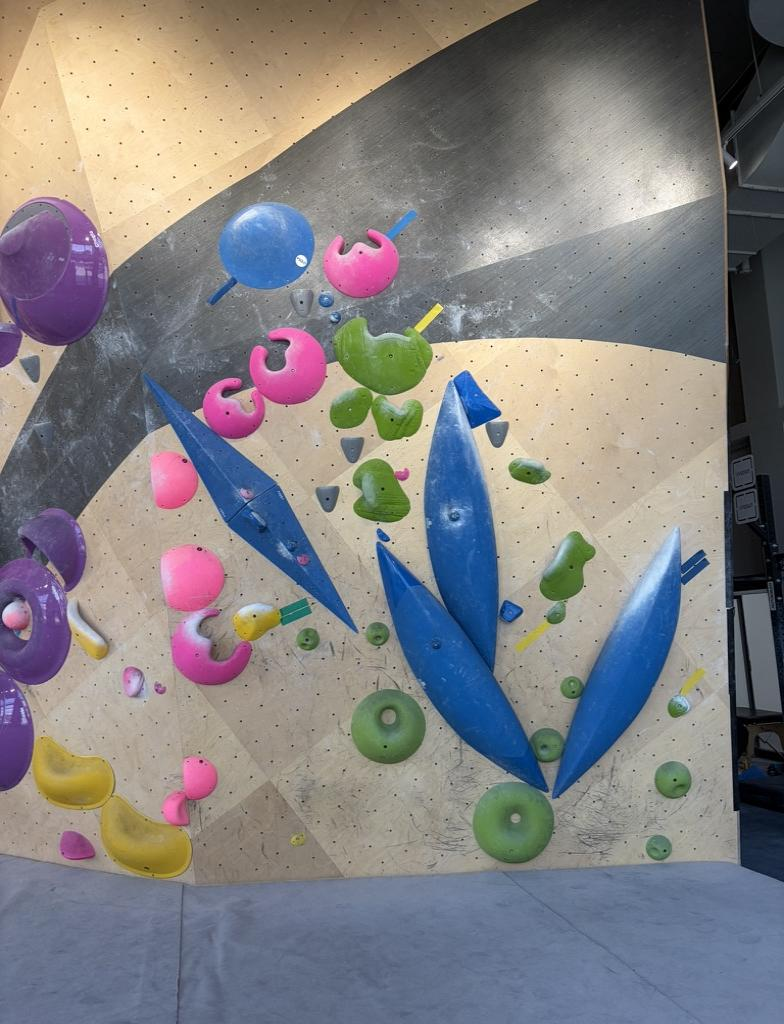crimp: (546, 601, 566, 624)
downhold: (315, 485, 339, 512), (340, 436, 363, 463), (291, 288, 313, 316), (485, 421, 507, 447)
jug: (333, 318, 432, 394), (0, 204, 68, 298), (172, 609, 251, 684), (249, 328, 326, 404), (323, 229, 398, 297), (540, 532, 594, 600), (204, 378, 263, 437), (371, 395, 423, 440), (67, 601, 107, 657), (234, 603, 280, 640), (509, 458, 550, 484)
pocket: (351, 689, 425, 762), (531, 728, 564, 761), (365, 622, 389, 646), (560, 676, 584, 698), (296, 628, 320, 650)
sidepull: (377, 544, 546, 791), (551, 528, 681, 798), (424, 381, 497, 670), (162, 544, 223, 611), (353, 459, 409, 521), (151, 452, 197, 508), (183, 758, 215, 799), (162, 791, 188, 823)
sloper: (218, 202, 313, 288), (2, 599, 30, 627)
tape: (514, 620, 549, 651), (681, 550, 708, 585), (207, 277, 237, 304), (414, 304, 442, 332), (387, 211, 415, 238), (281, 598, 310, 624), (679, 668, 704, 695), (682, 549, 704, 575)
undercling: (0, 558, 69, 683), (17, 508, 85, 589), (122, 667, 145, 697)
volume: (145, 377, 355, 630), (0, 197, 107, 345)
